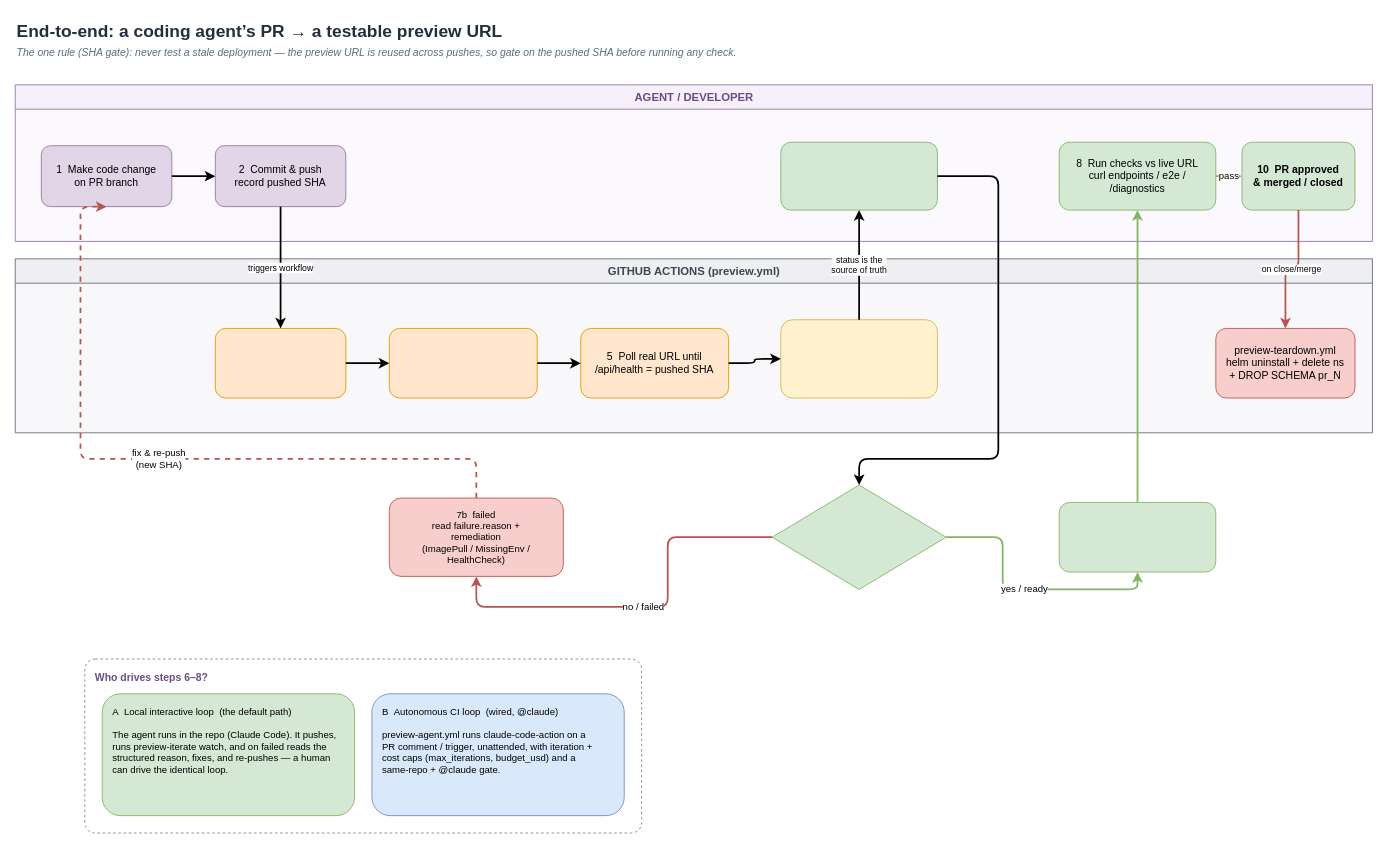
Image size: 1388x848. Some labels were removed from this diagram. The centre of each missing label's shape, as x and y in pixels:
3 Build image (GIT_SHA baked) push to ECR: pixel 280 363
4 helm upgrade --install into namespace pr-N (shared ALB routes): pixel 462 363
6 preview-iterate watch --pr N --sha S (polls, SHA-gated): pixel 858 175
7a ready action: run_checks (safe to test): pixel 1137 537
Ready? Check Run(SHA)=success AND health.sha=SHA: pixel 858 536
Write GitHub Deployment (environment_url) + Check Run + PR comment: pixel 858 358
